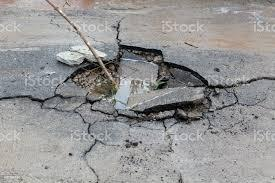alligator-crack: (91, 112, 132, 181), (42, 81, 82, 120)
pothole: (70, 42, 209, 123)
